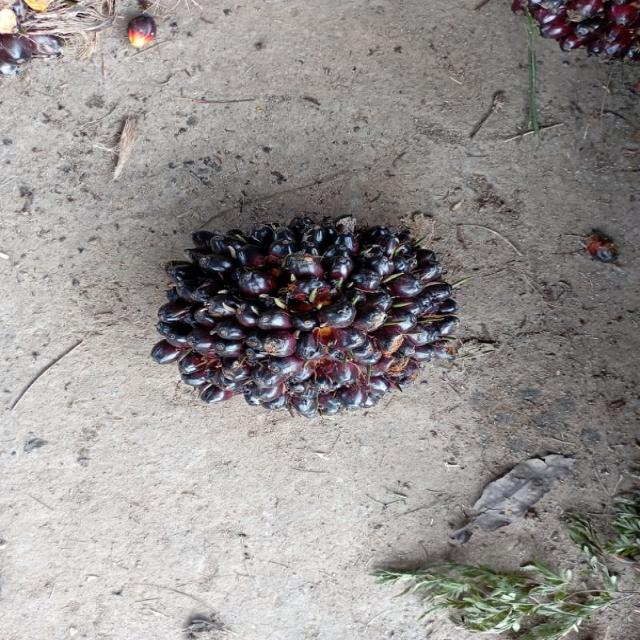fraksi 00: (132, 221, 470, 413)
